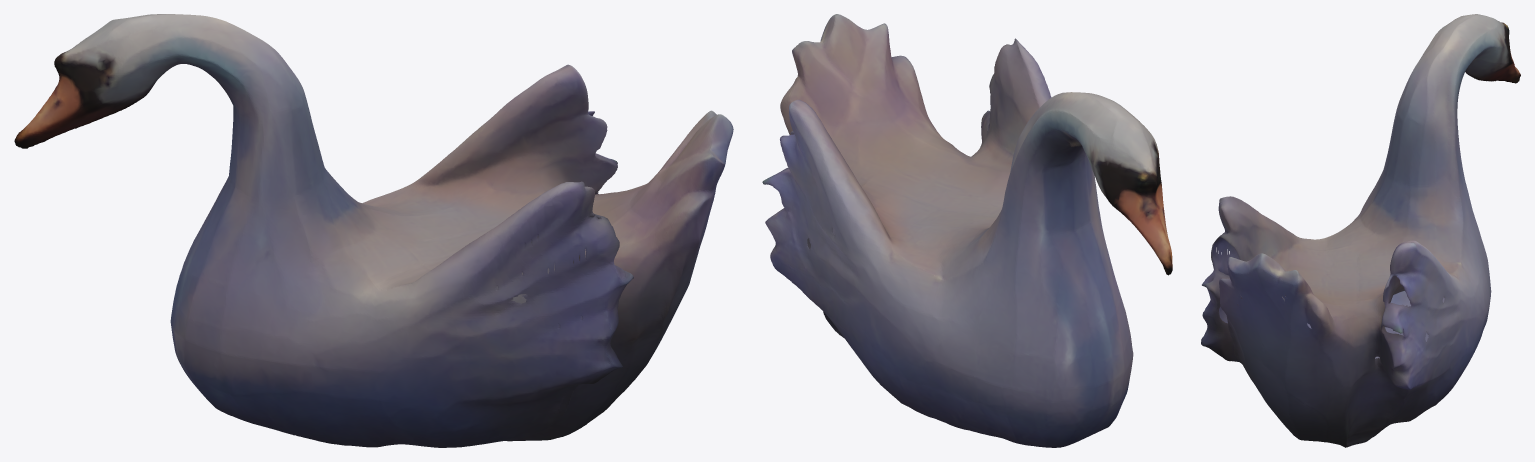
Rendered from hero_swan.glb.
3 renders of one model, left to right at view 1: azimuth 30°, elevation 25°; view 2: azimuth 150°, elevation 25°; view 3: azimuth 270°, elevation 25°, orthographic. The views are drawn at different scales.
Size of the model in its own units: 0.8944 by 0.6414 by 0.5905.
